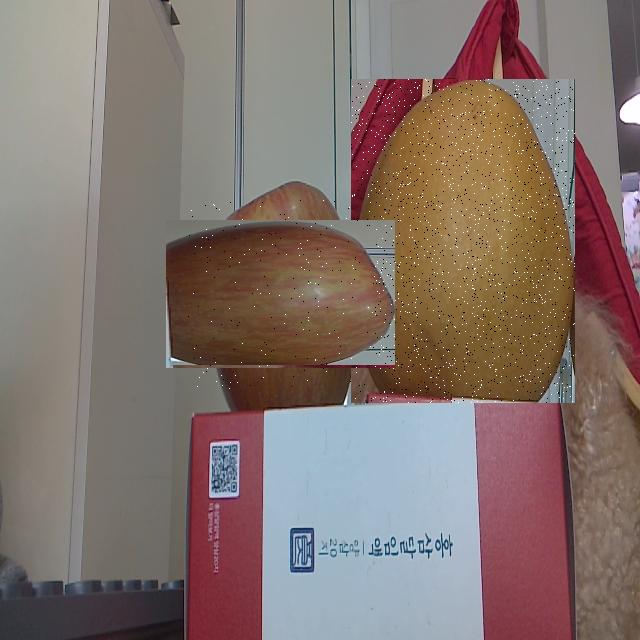apple: (185, 200, 375, 389)
pear: (351, 79, 575, 403)
